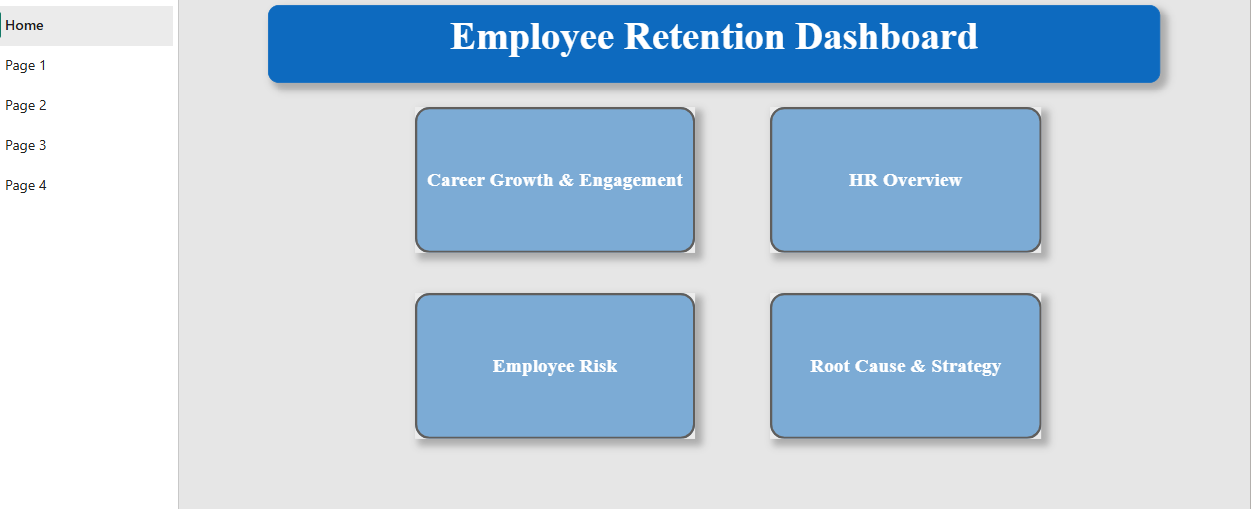

This screenshot's page, from the dashboard's own definition file:
{"tool":"powerbi","page":{"name":"Home","canvas":[1280,720],"ordinal":0},"visuals":[{"type":"textbox","box":[26.3,19,1226.3,106.8],"z":0},{"type":"actionButton","box":[715.6,159.5,373.2,200.5],"z":1000},{"type":"actionButton","box":[228.3,159.5,384.9,200.5],"z":2000},{"type":"actionButton","box":[228.3,415.6,384.9,200.5],"z":3000},{"type":"actionButton","box":[715.6,415.6,373.2,200.5],"z":4000}]}

Visuals, with their boxes in screenshot pixels (x1, y1, x2, y2):
textbox: box(267, 4, 1155, 81)
actionButton: box(766, 106, 1037, 251)
actionButton: box(414, 106, 692, 251)
actionButton: box(414, 291, 692, 436)
actionButton: box(766, 291, 1037, 436)
